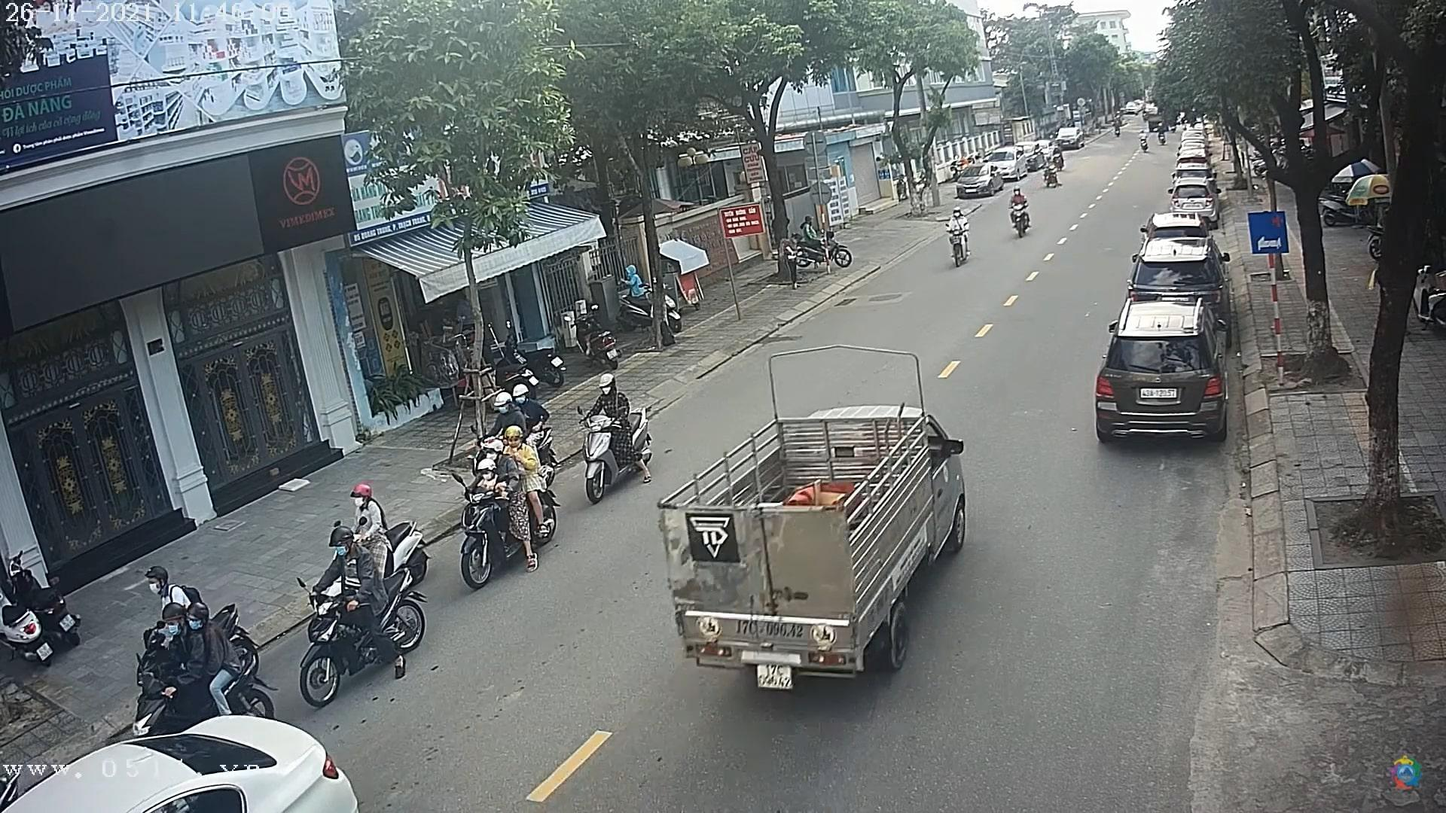car: (1097, 310, 1226, 444), (1130, 236, 1229, 304)
motorbike: (294, 586, 434, 702), (456, 473, 557, 589), (577, 413, 658, 502), (946, 226, 980, 268), (1014, 209, 1031, 246)
truck: (648, 405, 967, 701)
